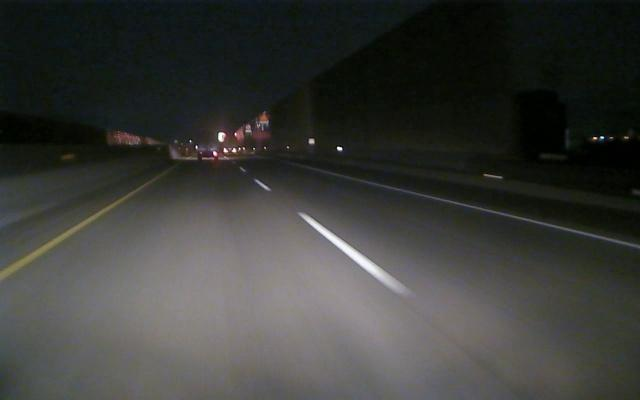lane: (336, 174, 639, 250), (256, 180, 414, 296), (1, 196, 128, 281)
